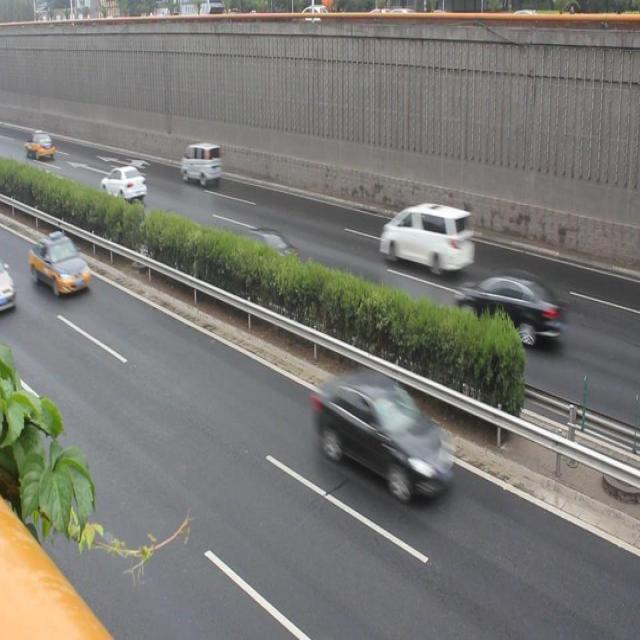car: (314, 369, 460, 504), (456, 267, 564, 348), (30, 230, 93, 305), (238, 223, 297, 278), (102, 162, 147, 208)
truck: (378, 198, 476, 277), (178, 138, 222, 188)
